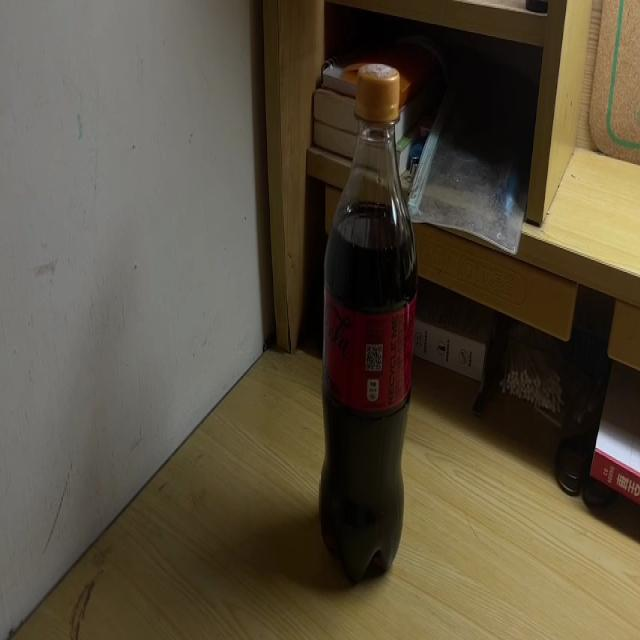Coca-Cola: (321, 64, 416, 576)
